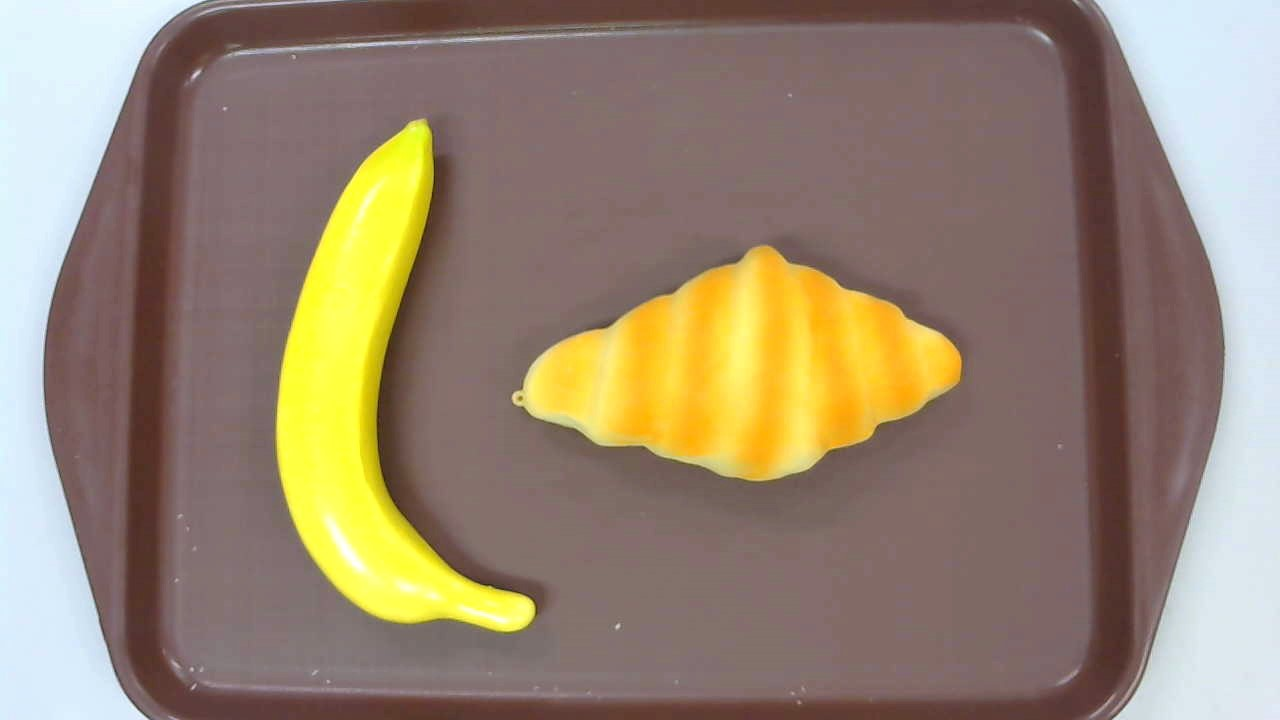banana: (275, 117, 536, 632)
croissant: (508, 245, 962, 483)
